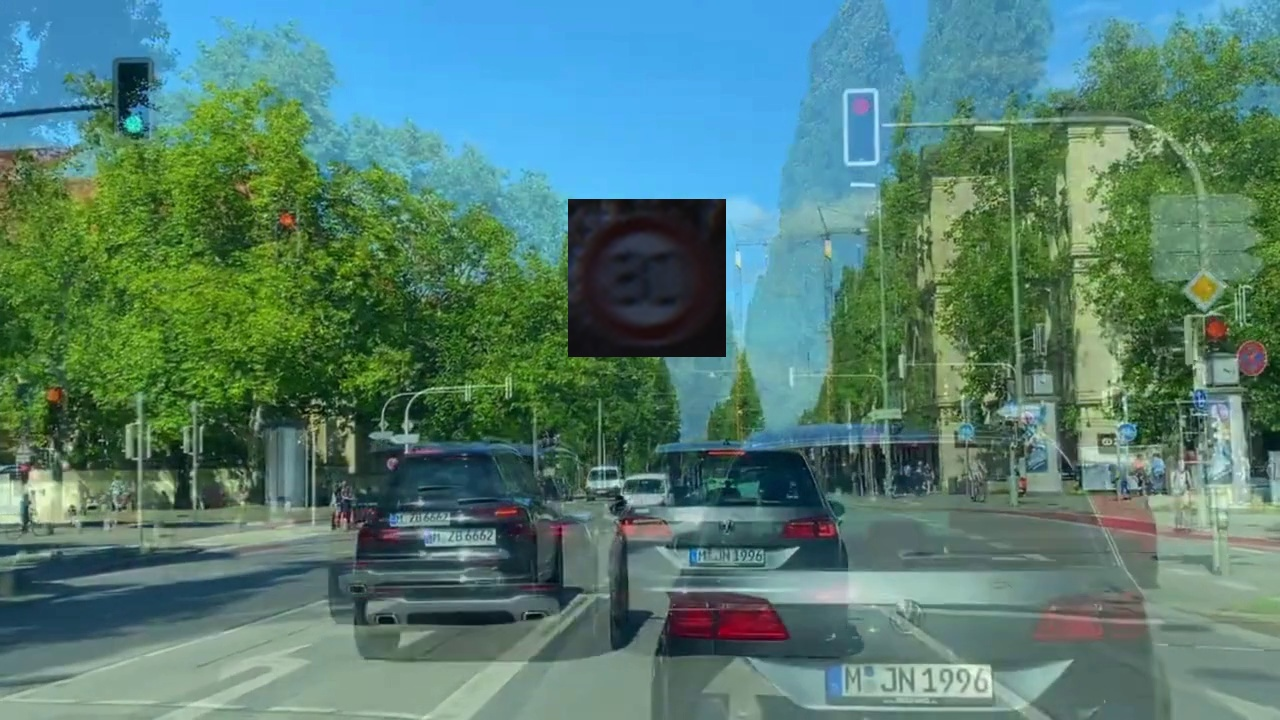Speed 80: (568, 199, 726, 357)
